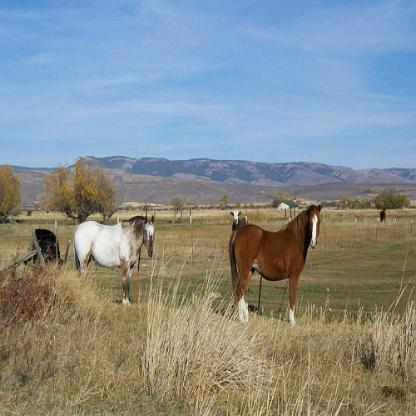cow: (227, 210, 247, 228)
horse: (227, 205, 321, 328), (73, 214, 156, 306), (378, 207, 388, 225)
